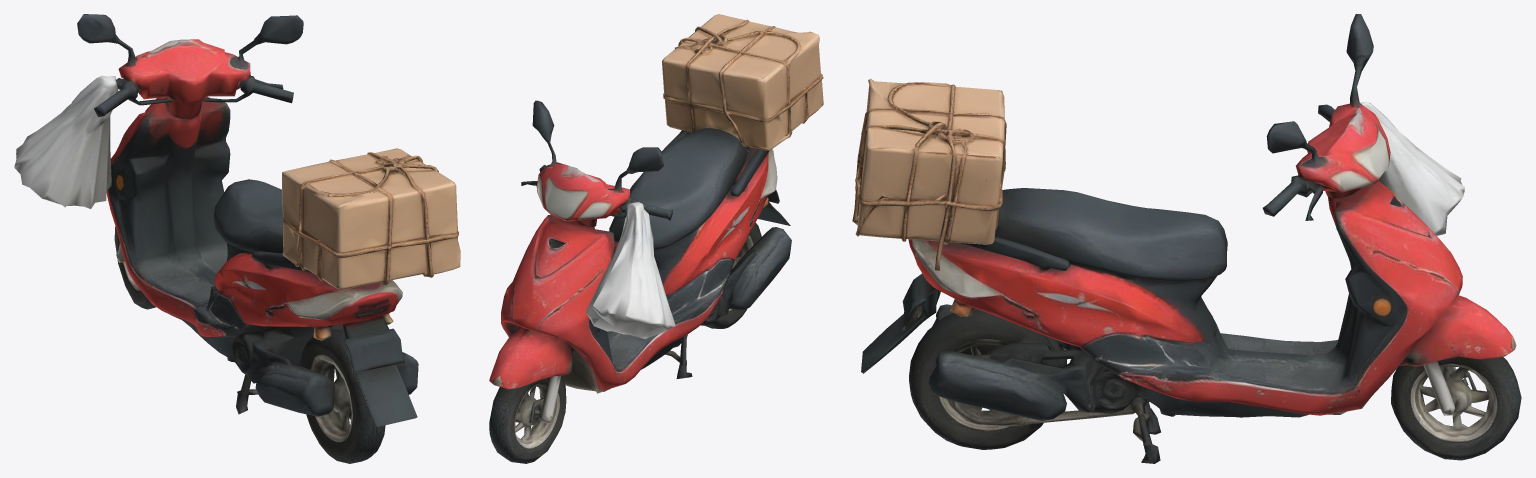
Rendered from scooter.glb.
The picture shows the model from 3 angles, left to right: view 1: azimuth 30°, elevation 25°; view 2: azimuth 150°, elevation 25°; view 3: azimuth 270°, elevation 25°; orthographic projection. The views are drawn at different scales.
Parts seen in each view (by area): view 1: tripo_node_43c5e3a9-90e8-41f6-8945-c8e405058aa4; view 2: tripo_node_43c5e3a9-90e8-41f6-8945-c8e405058aa4; view 3: tripo_node_43c5e3a9-90e8-41f6-8945-c8e405058aa4.
Boxes of the visible parts, <box> form: tripo_node_43c5e3a9-90e8-41f6-8945-c8e405058aa4: <box>14,14,460,463</box>; tripo_node_43c5e3a9-90e8-41f6-8945-c8e405058aa4: <box>489,14,823,463</box>; tripo_node_43c5e3a9-90e8-41f6-8945-c8e405058aa4: <box>852,14,1521,463</box>.
Size of the model in its own units: 0.7663 by 1.15 by 1.8.
1 material, 1 textured.
